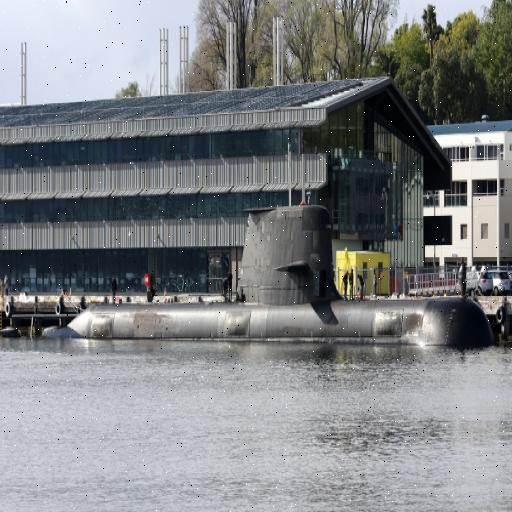submarine: (45, 205, 498, 352)
